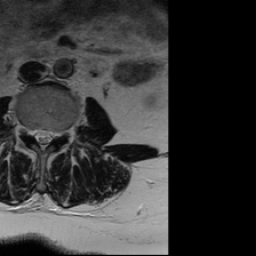CCS_normal: (39, 121, 47, 158)
LFS_normal: (55, 121, 64, 145)
LLS_normal: (47, 121, 55, 151)
RFS_stenosis: (24, 118, 31, 143)
RLS_normal: (31, 122, 39, 147)
